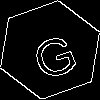G: (25, 25, 82, 82)
